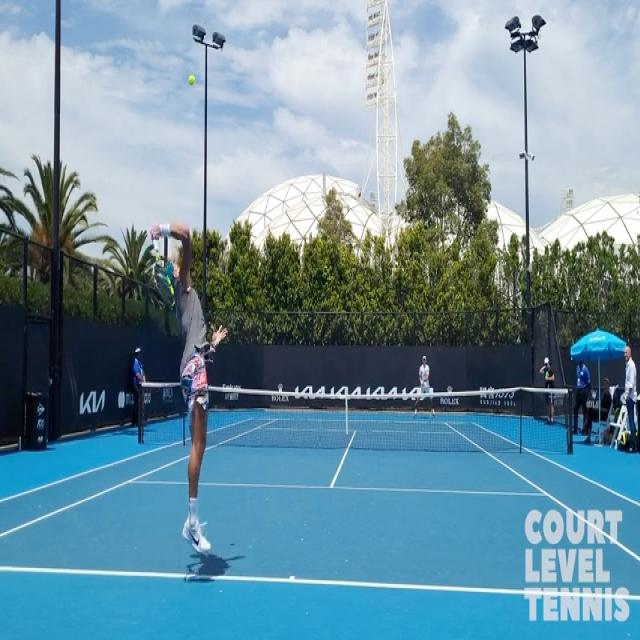serve_hit: (117, 199, 239, 605)
